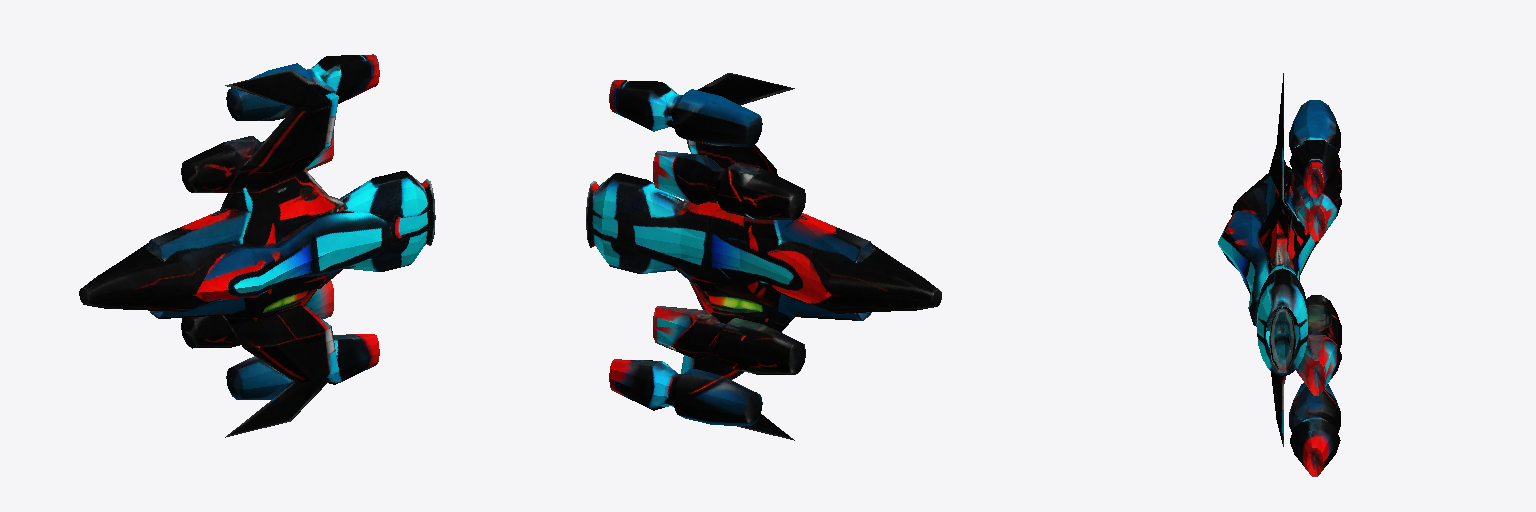
3 views of the same model, side by side, from view 1: azimuth 30°, elevation 25°; view 2: azimuth 150°, elevation 25°; view 3: azimuth 270°, elevation 25° (orthographic).
Parts seen in each view (by area): view 1: starblast_[number redacted]_[number redacted]_texture; view 2: starblast_[number redacted]_[number redacted]_texture; view 3: starblast_[number redacted]_[number redacted]_texture.
Boxes of the visible parts, x1=… form: starblast_[number redacted]_[number redacted]_texture: x1=79, y1=54, x2=435, y2=437; starblast_[number redacted]_[number redacted]_texture: x1=586, y1=73, x2=941, y2=440; starblast_[number redacted]_[number redacted]_texture: x1=1218, y1=73, x2=1341, y2=476.
Size of the model in its own units: 2 by 1.93 by 0.6213.
Materials: 1 (1 with a texture image).